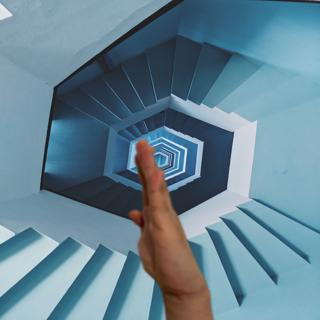RIGHT: (122, 137, 208, 295)
